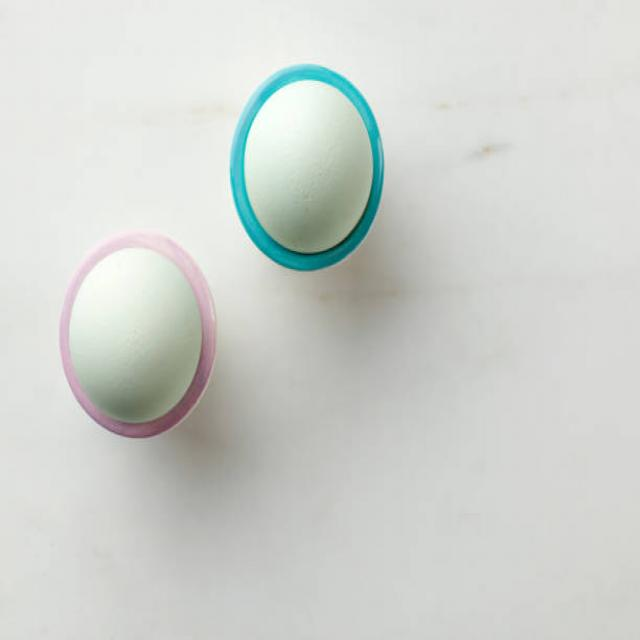egg_: (67, 249, 202, 420), (245, 77, 372, 252)
